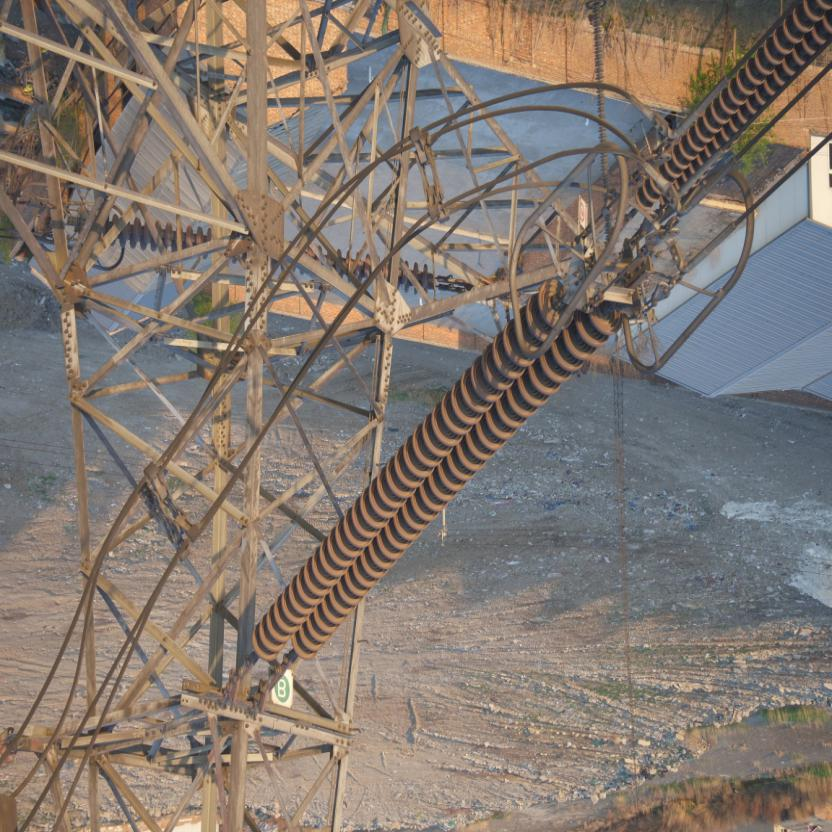insulator: (236, 274, 637, 684)
